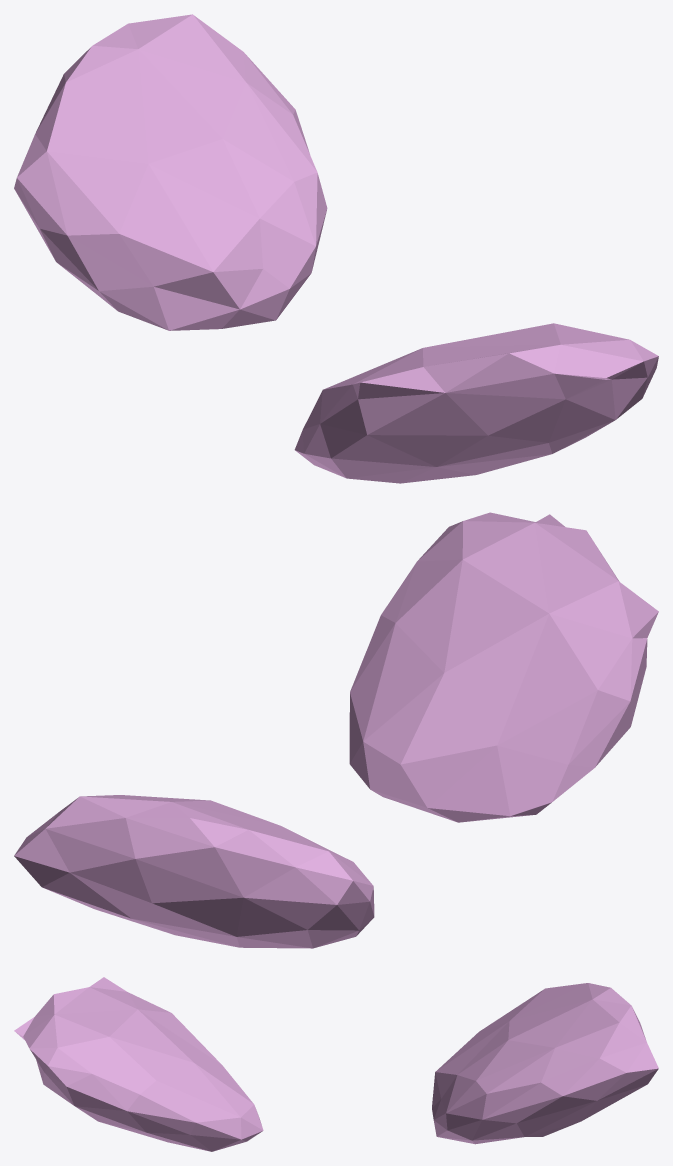
3 renders of one model, top to bottom at view 1: azimuth 30°, elevation 25°; view 2: azimuth 150°, elevation 25°; view 3: azimuth 270°, elevation 25°, orthographic. The views are drawn at different scales.
Visible parts, largest first — view 1: 614454277.obj; view 2: 614454277.obj; view 3: 614454277.obj.
Part boxes in pixels (x1,y1,x2,y2): 614454277.obj: (14, 14, 658, 483); 614454277.obj: (14, 512, 658, 948); 614454277.obj: (14, 977, 658, 1151).
Size of the model in its own units: 319 by 219 by 912.
